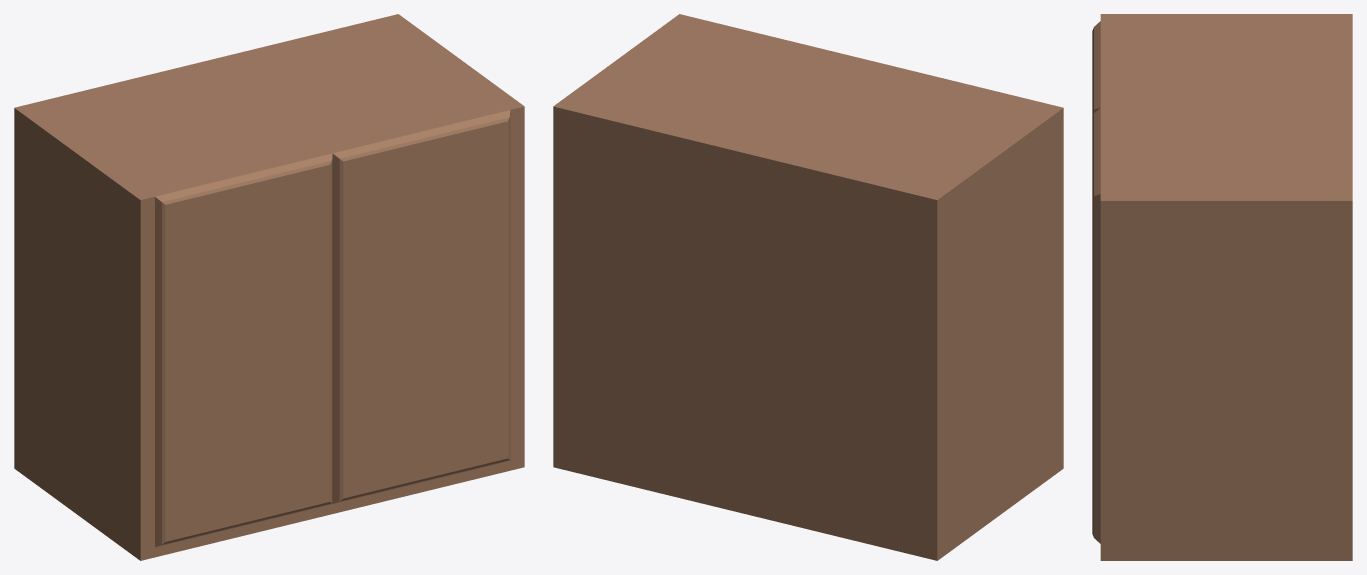
The model's file is Credenza Modulare.fbx.
3 renders of one model, left to right at view 1: azimuth 30°, elevation 25°; view 2: azimuth 150°, elevation 25°; view 3: azimuth 270°, elevation 25°, orthographic.
Parts seen in each view (by area): view 1: polySurface11; view 2: polySurface11; view 3: polySurface11.
Boxes of the visible parts, x1,y1,x2,y2 form: polySurface11: (14,14,524,560); polySurface11: (553,14,1063,560); polySurface11: (1092,14,1352,560).
Size of the model in its own units: 2 by 1.79 by 1.18.
